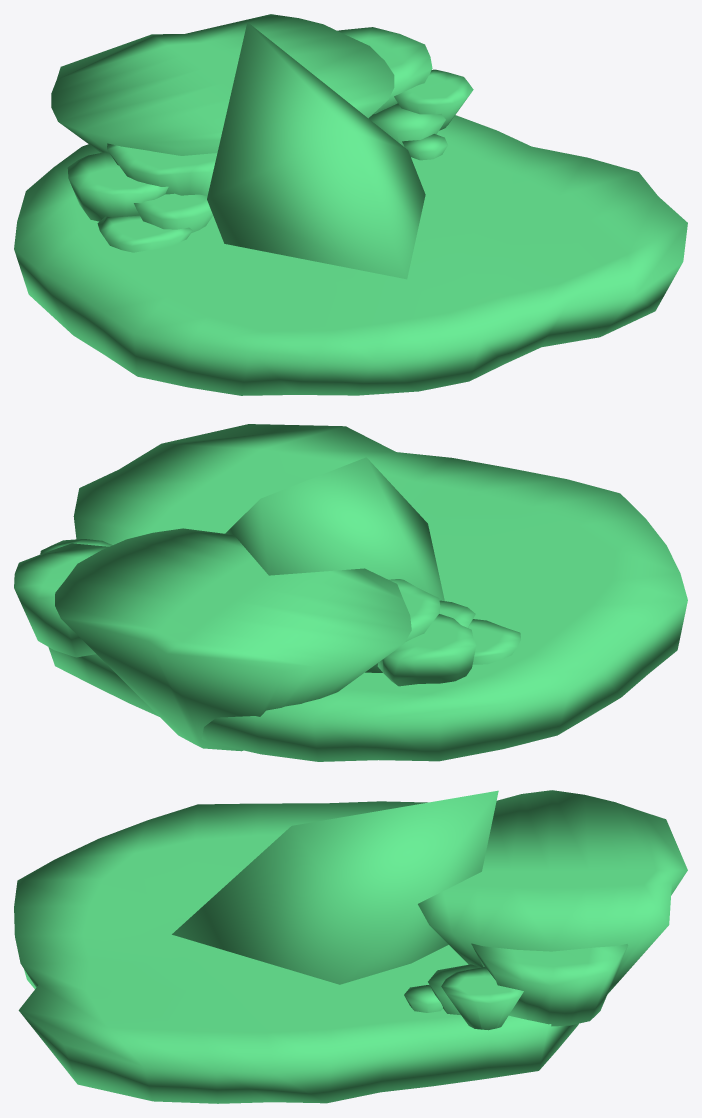
Rendered from island1_modeling_test_collider.fbx.
3 views of the same model, one above another, from view 1: azimuth 30°, elevation 25°; view 2: azimuth 150°, elevation 25°; view 3: azimuth 270°, elevation 25° (orthographic). The views are drawn at different scales.
Visible parts, largest first — view 1: planalto.001; view 2: planalto.001; view 3: planalto.001.
Boxes of the visible parts, left/top/right/bottom form: planalto.001: left=14, top=14, right=687, bottom=395; planalto.001: left=14, top=424, right=687, bottom=761; planalto.001: left=14, top=790, right=687, bottom=1103.
Bounding box in the file's own units: 5495 × 2799 × 5711.
